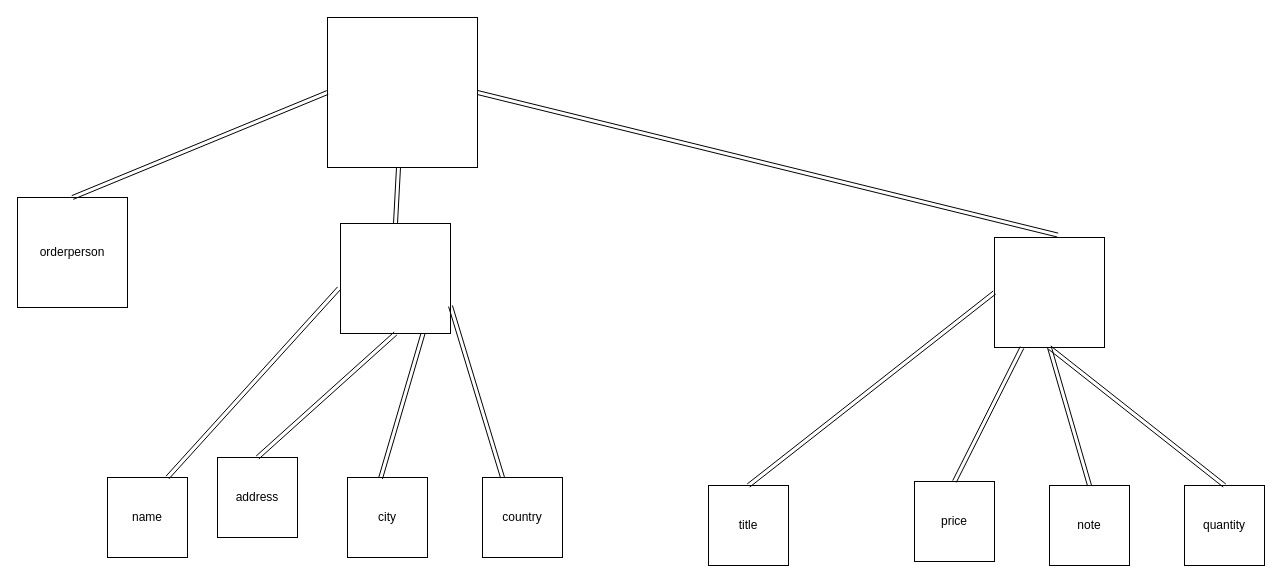
This 1282x583 diagram has some shape labels left out. Each missing label, with the centre of its shape:
"item" goes at [1049,292].
"shiporder" goes at [402,92].
"shipto" goes at [395,278].
